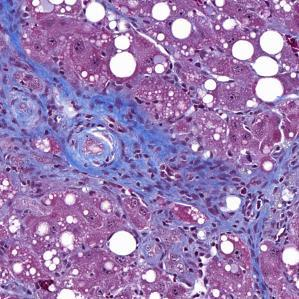fibrosis: (60, 91, 192, 194), (163, 153, 297, 238)
